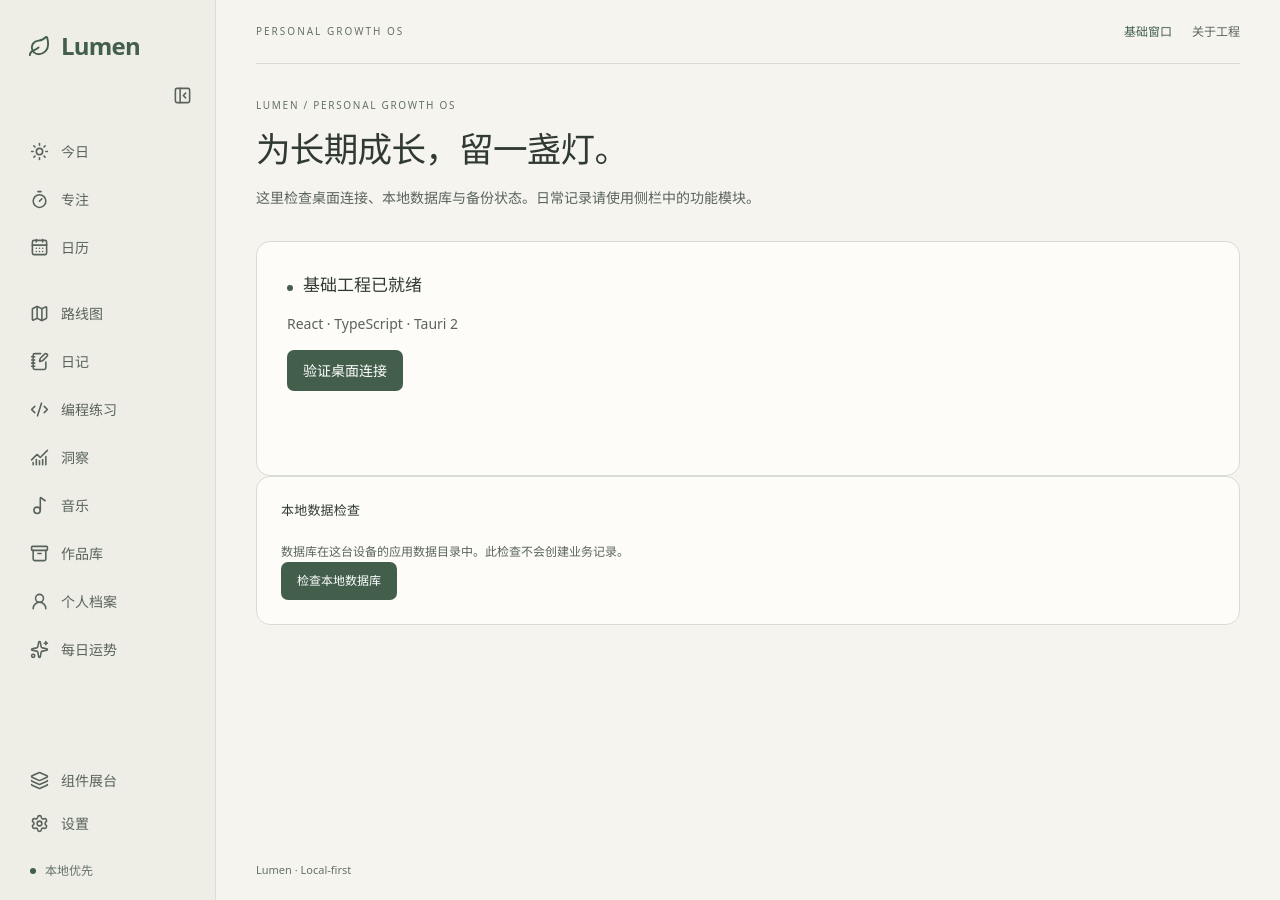
it: bootstrap boundary › reports IPC failure without crashing
Click the button "验证桌面连接". click: click(345, 371)
box: [287,350,403,391]
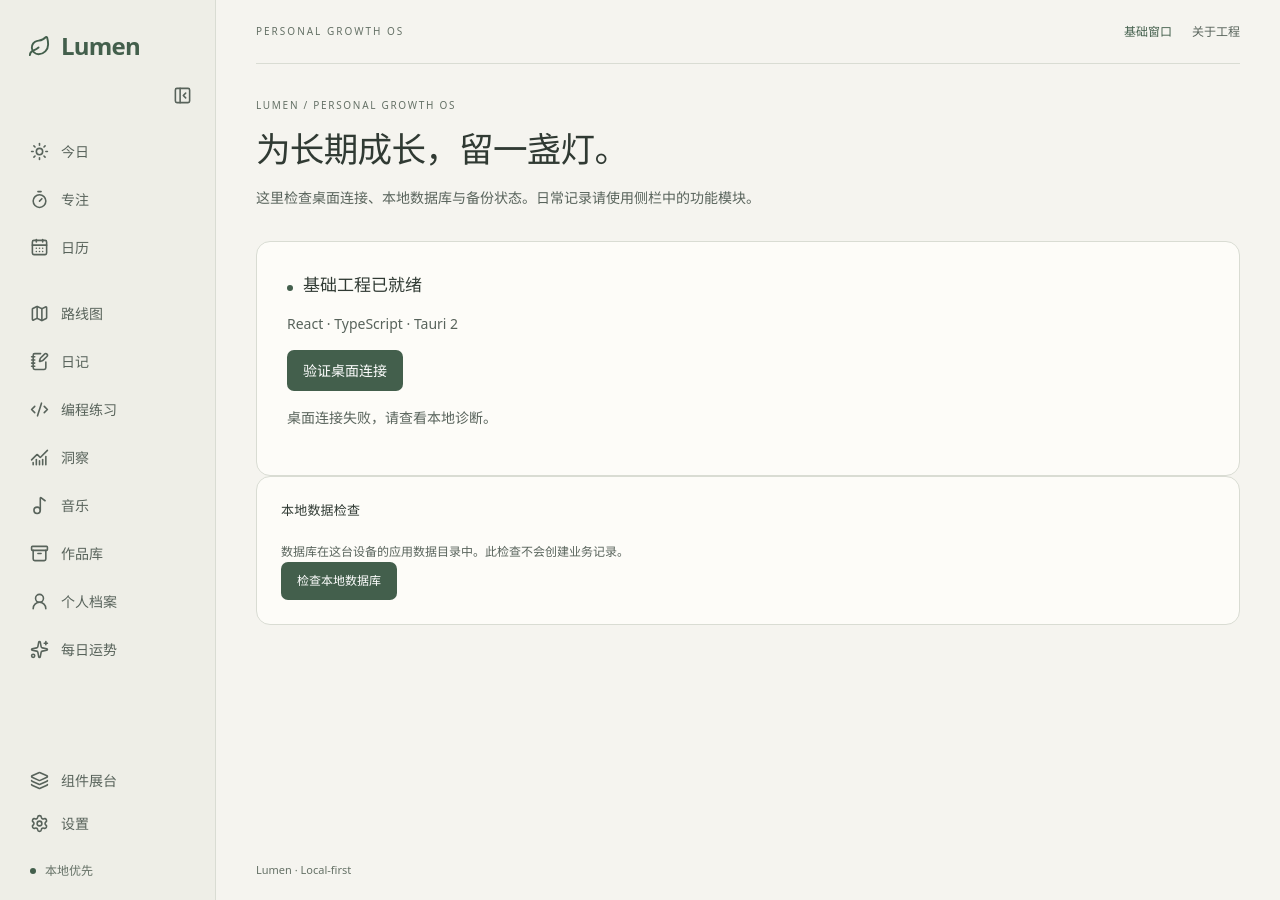
Result: the text "桌面连接失败，请查看本地诊断。" is shown at [287,408,497,427]
